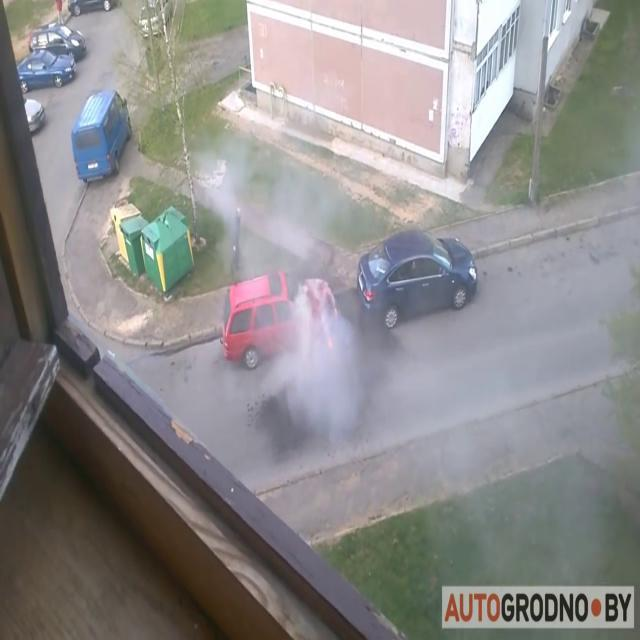Smoke: (210, 112, 374, 444)
